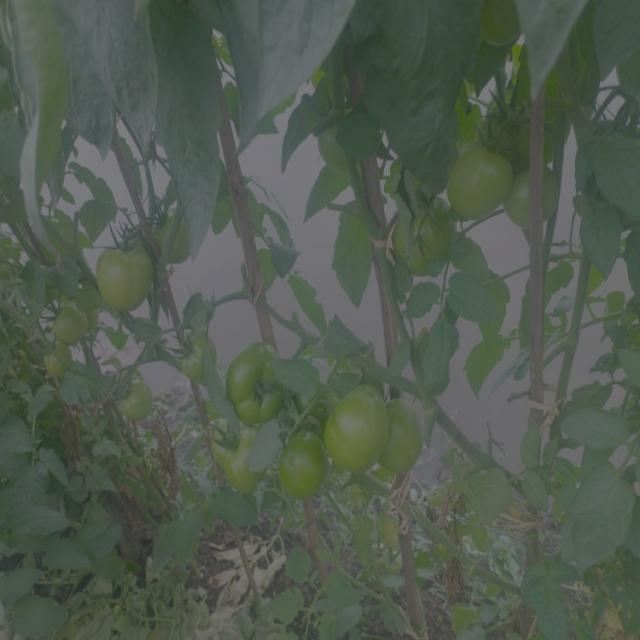tomato: (223, 344, 288, 424), (328, 389, 389, 474), (451, 149, 509, 229), (100, 241, 155, 314), (208, 429, 269, 490), (278, 429, 325, 492), (396, 196, 444, 257), (486, 105, 550, 147), (511, 166, 555, 226), (392, 401, 424, 477), (47, 300, 94, 343), (111, 378, 156, 422), (318, 113, 353, 169), (488, 3, 522, 54), (180, 334, 215, 383), (42, 349, 72, 381)
